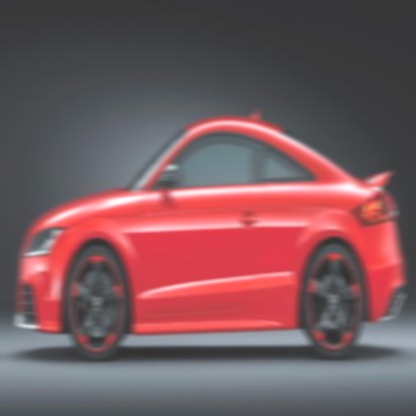Vehicle: (16, 107, 406, 361)
